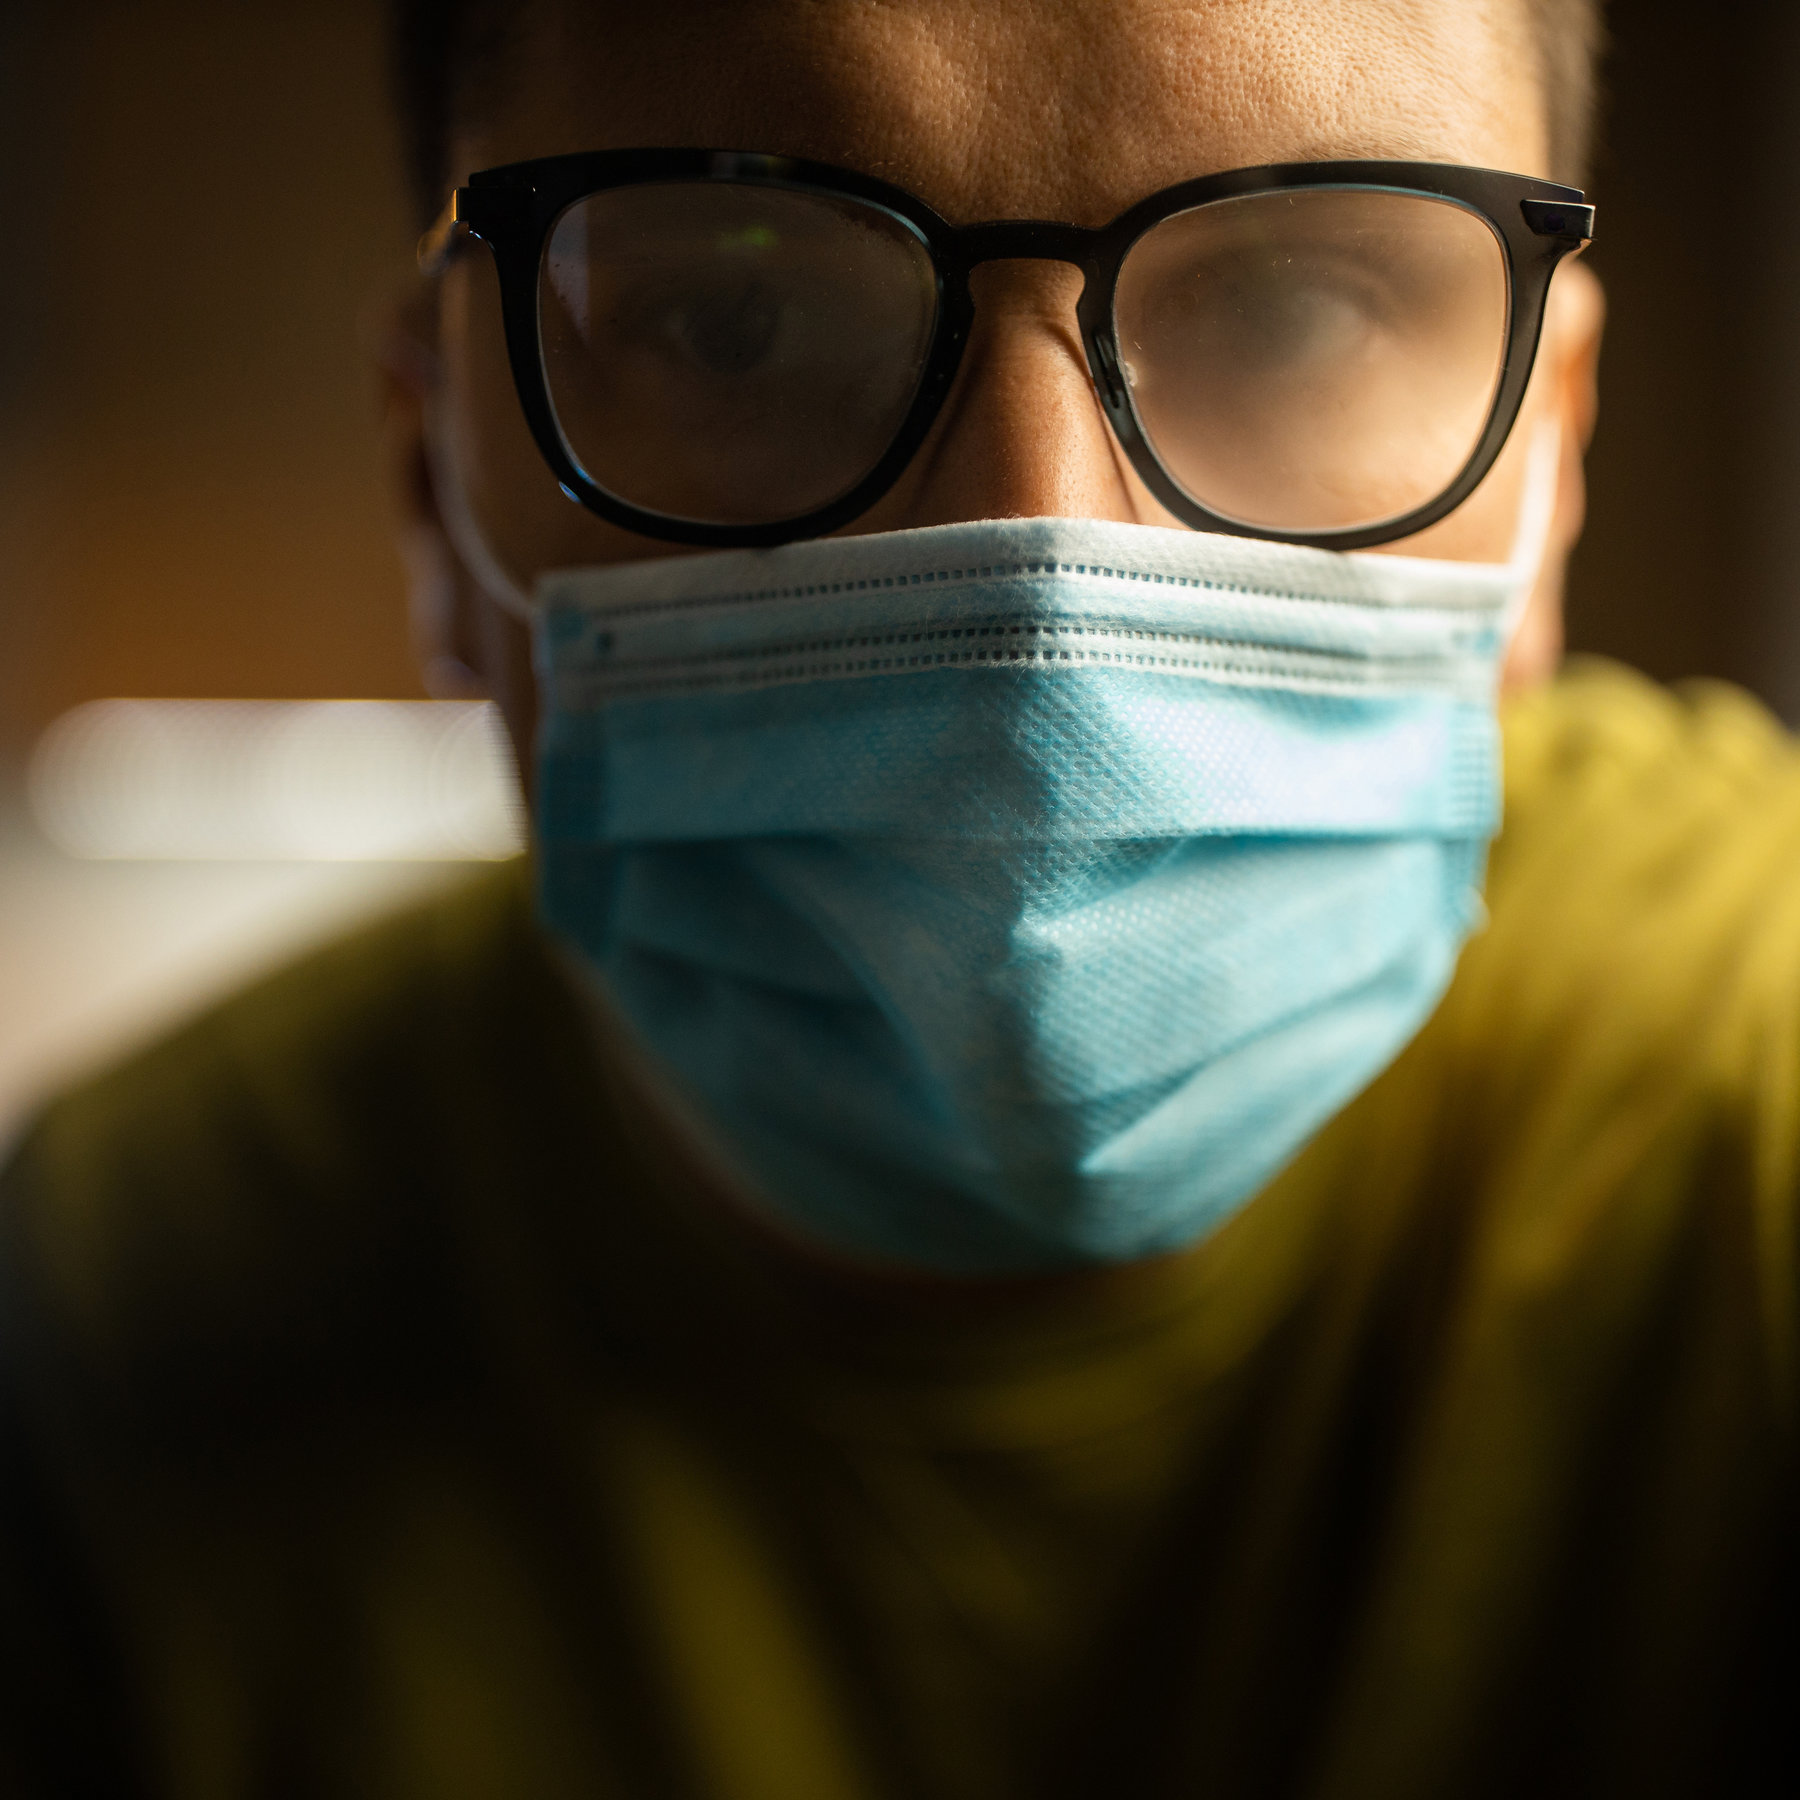with_mask: (383, 9, 1622, 1255)
